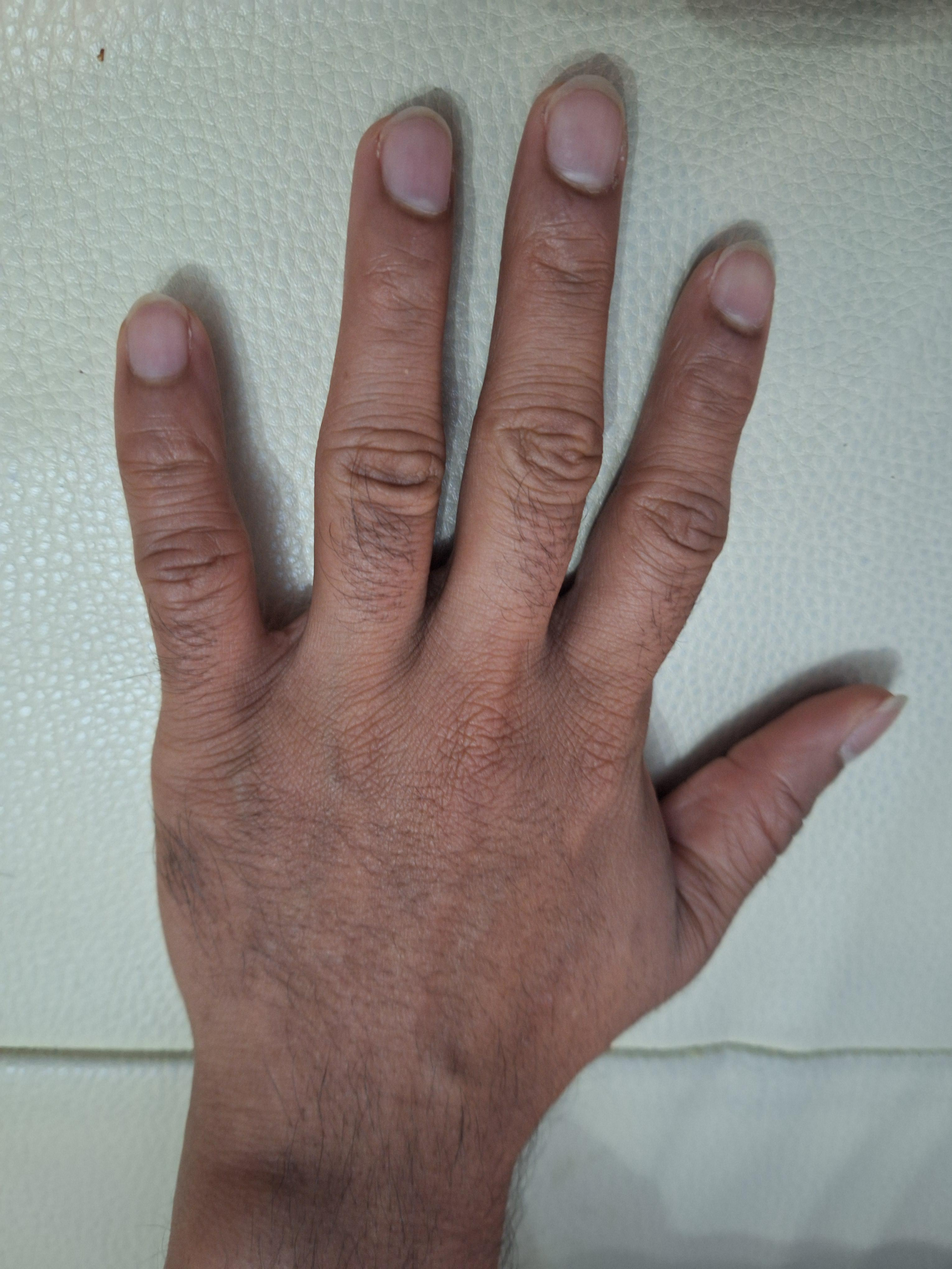Fingernail: (546, 75, 625, 191), (380, 106, 452, 214), (709, 240, 776, 334), (124, 292, 189, 379), (842, 697, 906, 768)
